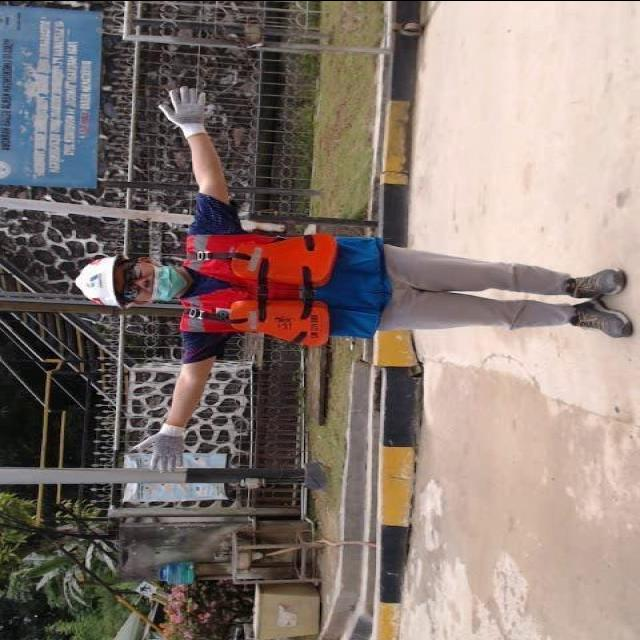helmet: (70, 242, 126, 314)
jacket: (169, 218, 347, 352)
